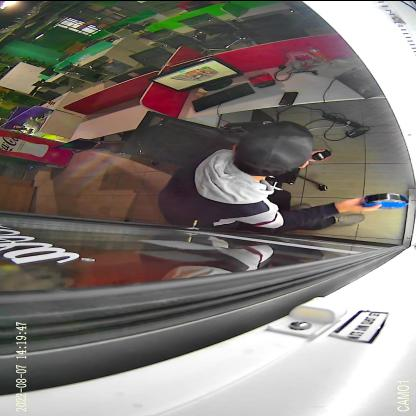blue: (360, 192, 408, 208)
